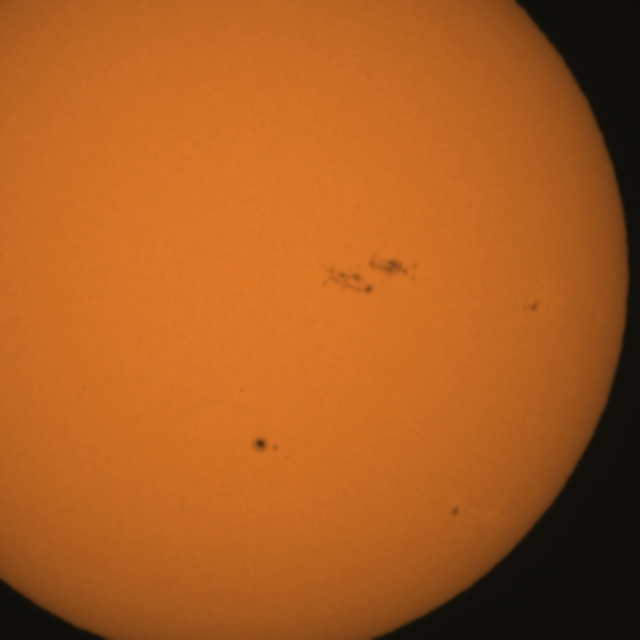sunspot: (317, 265, 380, 297), (362, 254, 423, 283), (250, 436, 280, 455), (521, 299, 541, 316), (449, 504, 461, 519)
